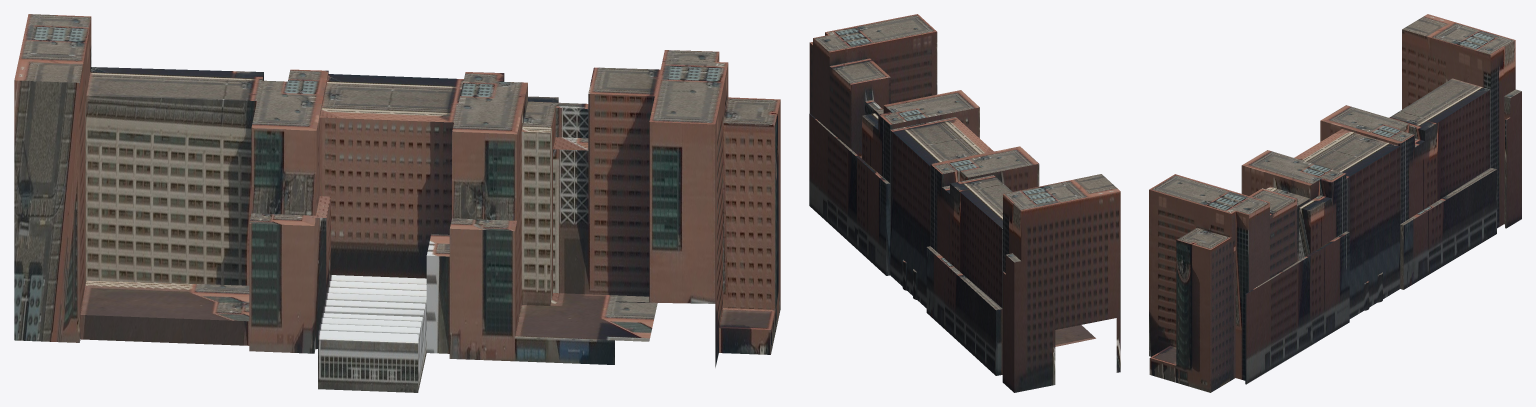
The model's file is {F99BAE3D-9A7C-439C-BEA7-3F562D105BFC}.gltf.
3 renders of one model, left to right at view 1: azimuth 30°, elevation 25°; view 2: azimuth 150°, elevation 25°; view 3: azimuth 270°, elevation 25°, orthographic. The views are drawn at different scales.
Visible parts, largest first — view 1: Z_UP; view 2: Z_UP; view 3: Z_UP.
Part boxes in pixels (left/top/right/bottom): Z_UP: left=14, top=14, right=780, bottom=392; Z_UP: left=809, top=14, right=1120, bottom=392; Z_UP: left=1149, top=14, right=1521, bottom=392.
Bounding box in the file's own units: 144 × 59.04 × 113.
Materials: 18 (17 with a texture image).
